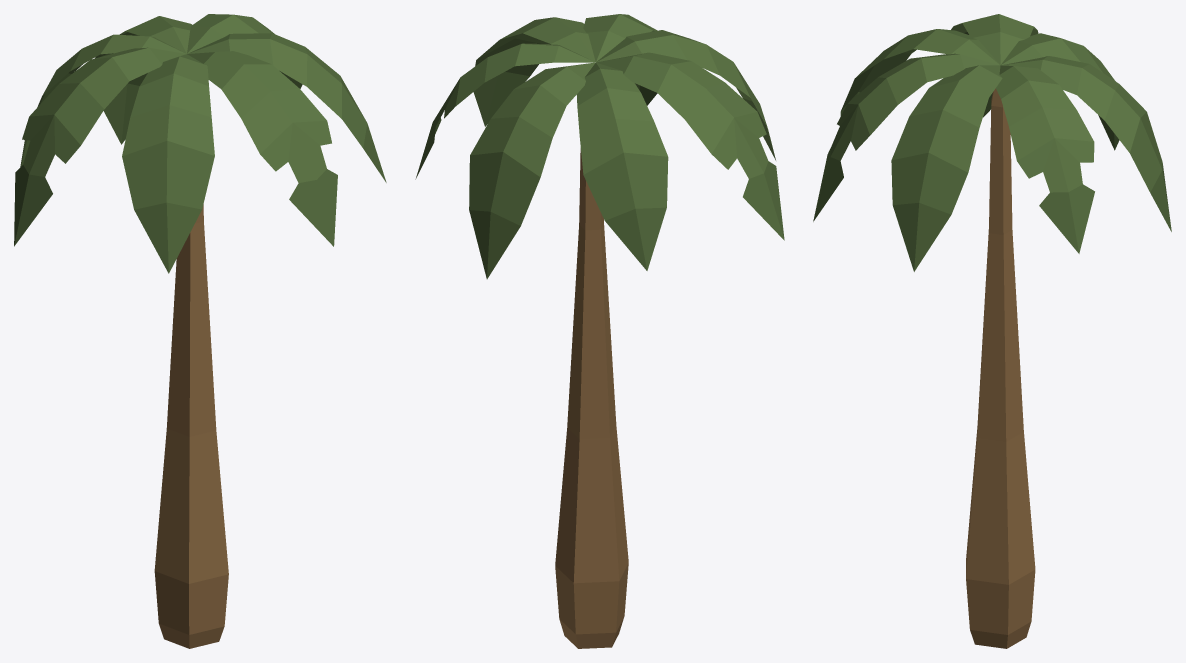
The model's file is tree_palm_02.fbx.
3 renders of one model, left to right at view 1: azimuth 30°, elevation 25°; view 2: azimuth 150°, elevation 25°; view 3: azimuth 270°, elevation 25°, orthographic. The views are drawn at different scales.
Visible parts, largest first — view 1: tree_palm_03; view 2: tree_palm_03; view 3: tree_palm_03.
Boxes of the visible parts, x1=… form: tree_palm_03: x1=14, y1=14, x2=386, y2=648; tree_palm_03: x1=415, y1=14, x2=784, y2=648; tree_palm_03: x1=813, y1=14, x2=1171, y2=648.
Bounding box in the file's own units: 358 × 607 × 337.
